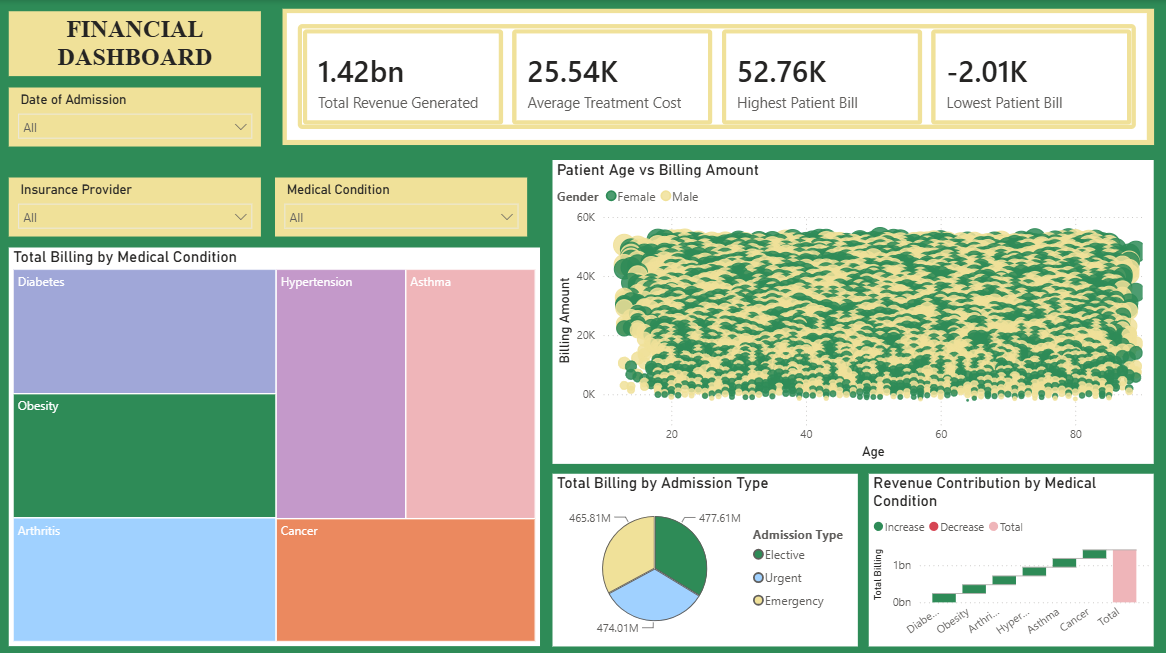

The page's visual inventory and layout, read from the dashboard file:
{"tool":"powerbi","page":{"name":"Page 2","canvas":[1280,720],"ordinal":1},"visuals":[{"type":"textbox","box":[9.6,12.3,277.2,71.4],"z":0},{"type":"cardVisual","fields":{"Data":["All Measures.Total Revenue Generated","All Measures.Average Treatment Cost","All Measures.Highest Patient Bill","All Measures.Lowest Patient Bill"]},"box":[310.1,9.6,956.4,149.6],"z":1000},{"type":"treemap","fields":{"Values":["All Measures.Total Billing"],"Group":["Healthcare data.Medical Condition"]},"box":[9.6,271.7,583.2,437.7],"z":2000},{"type":"scatterChart","title":"Patient Age vs Billing Amount","fields":{"X":["Healthcare data.Age"],"Y":["Healthcare data.Billing Amount"],"Series":["Healthcare data.Gender"],"Size":["Sum(Healthcare data.Billing Amount)"]},"box":[606.5,175.6,660,333.4],"z":3000},{"type":"pieChart","fields":{"Category":["Healthcare data.Admission Type"],"Y":["All Measures.Total Billing"]},"box":[606.5,520.1,334.8,189.4],"z":4000},{"type":"slicer","fields":{"Values":["Healthcare data.Date of Admission"]},"box":[9.6,96.1,277.2,64.5],"z":5000},{"type":"slicer","fields":{"Values":["Healthcare data.Insurance Provider"]},"box":[9.6,194.9,277.2,64.5],"z":6000},{"type":"slicer","fields":{"Values":["Healthcare data.Medical Condition"]},"box":[301.9,194.9,277.2,64.5],"z":7000},{"type":"waterfallChart","title":"Revenue Contribution by Medical Condition","fields":{"Category":["Healthcare data.Medical Condition"],"Y":["All Measures.Total Billing"]},"box":[953.7,520.1,312.9,189.4],"z":8000}]}

Visuals, with their boxes in screenshot pixels (x1, y1, x2, y2), scaled from the page's 1280x720 canvas onto the 1166x653 screenshot:
textbox: [left=9, top=11, right=261, bottom=76]
cardVisual - All Measures.Total Revenue Generated x All Measures.Average Treatment Cost: [left=282, top=9, right=1154, bottom=144]
treemap - All Measures.Total Billing x Healthcare data.Medical Condition: [left=9, top=246, right=540, bottom=643]
"Patient Age vs Billing Amount" scatterChart: [left=552, top=159, right=1154, bottom=462]
pieChart - Healthcare data.Admission Type x All Measures.Total Billing: [left=552, top=472, right=857, bottom=643]
slicer - Healthcare data.Date of Admission: [left=9, top=87, right=261, bottom=146]
slicer - Healthcare data.Insurance Provider: [left=9, top=177, right=261, bottom=235]
slicer - Healthcare data.Medical Condition: [left=275, top=177, right=528, bottom=235]
"Revenue Contribution by Medical Condition" waterfallChart: [left=869, top=472, right=1154, bottom=643]
